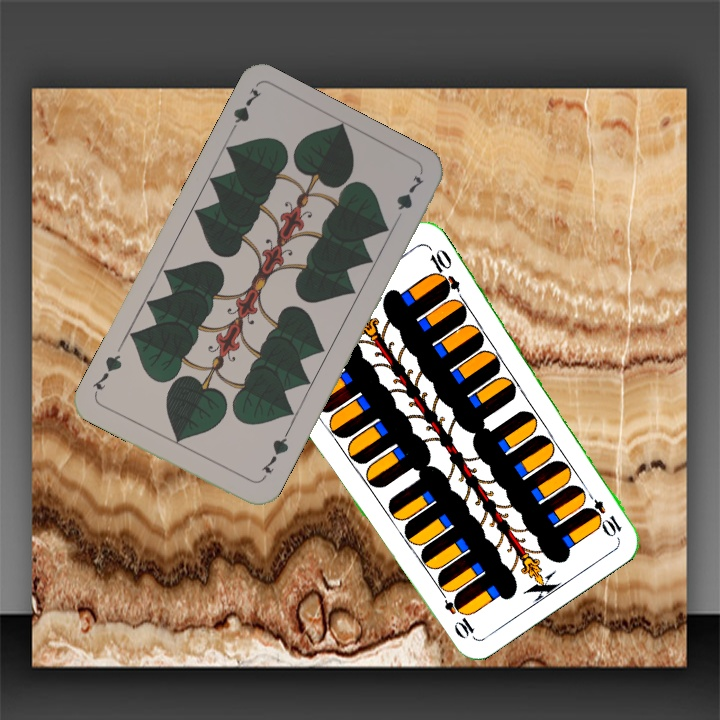E10: (580, 486, 625, 539)
G7: (224, 84, 264, 139), (257, 429, 291, 476)
